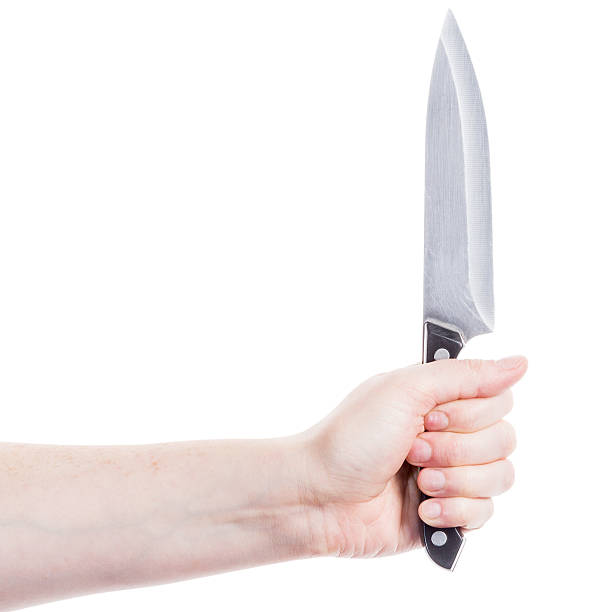knife: (416, 9, 497, 574)
